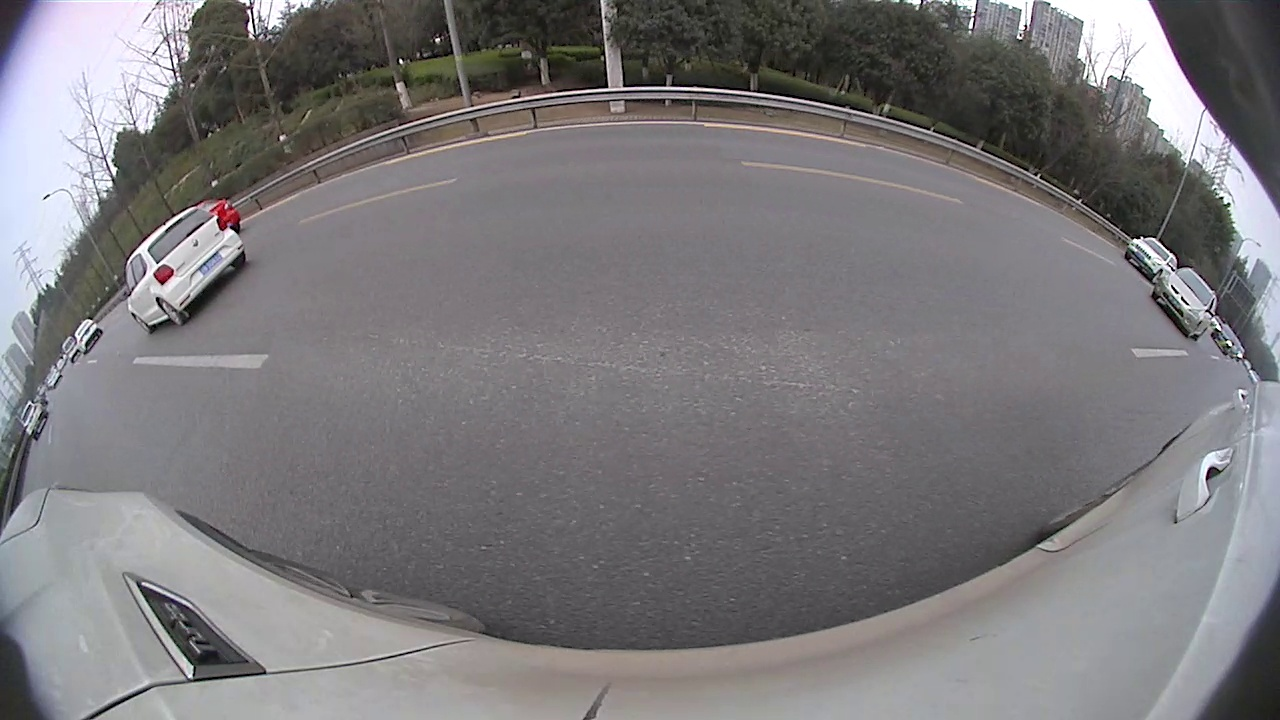car: (122, 204, 250, 336), (1151, 265, 1221, 341), (1123, 235, 1179, 285), (192, 195, 243, 239), (18, 398, 50, 440), (73, 317, 106, 355), (1209, 321, 1241, 356), (60, 336, 83, 364)
front: (133, 314, 152, 334), (1151, 270, 1162, 283)
rear: (159, 298, 183, 327)
